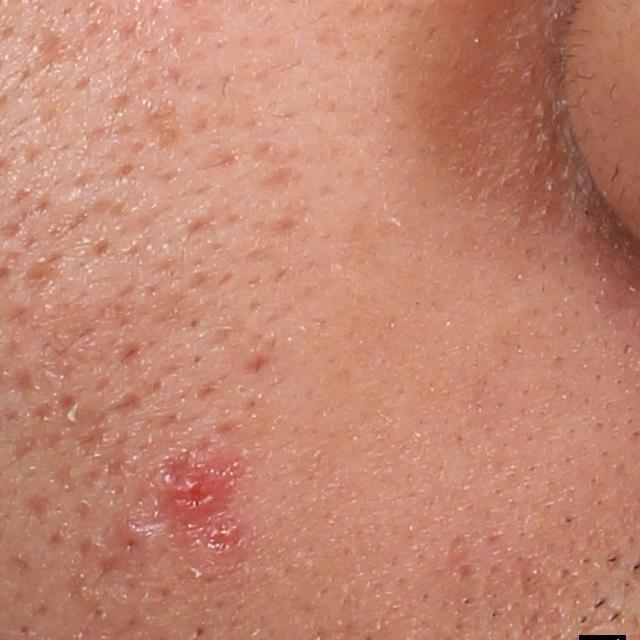atrophic_scar: (15, 391, 143, 462), (13, 248, 63, 302), (25, 26, 73, 74)
papule: (162, 458, 231, 529), (110, 514, 166, 564)
